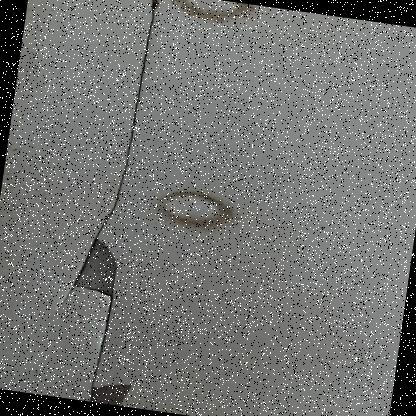Crack: (9, 0, 330, 415), (26, 0, 50, 16)
